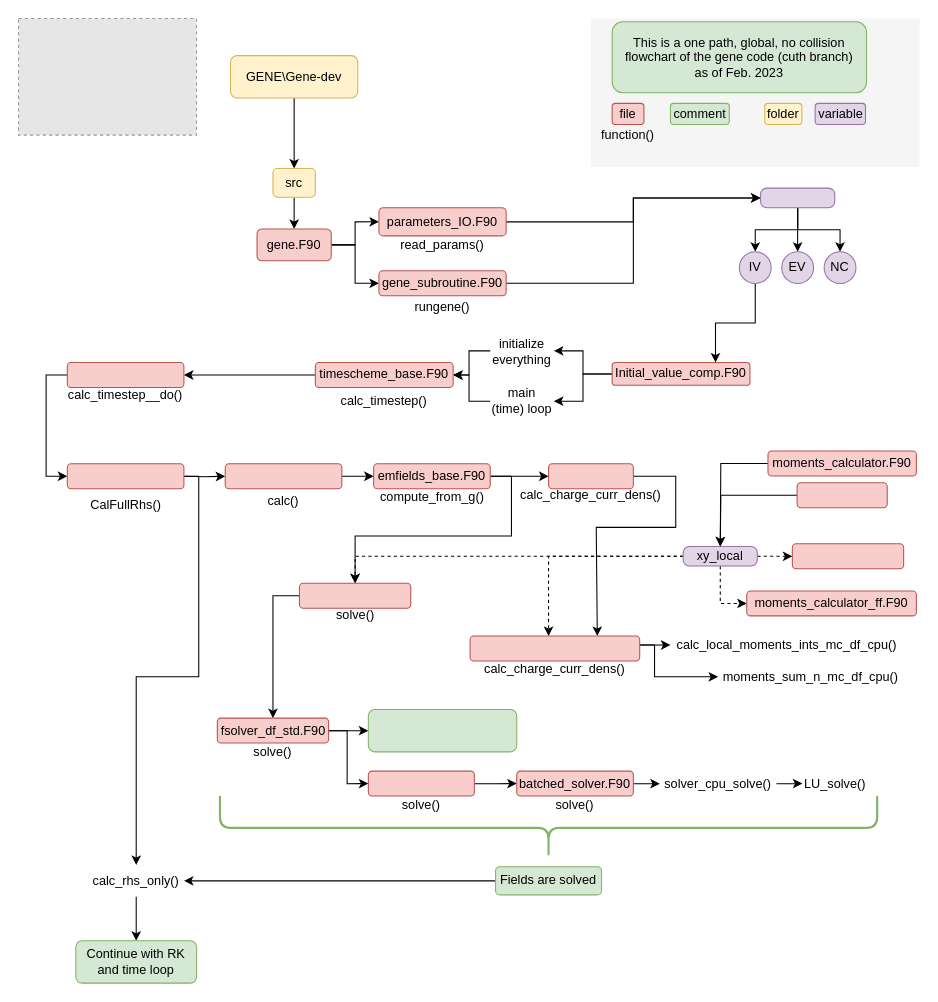
Image size: 938x1002. Some labels were removed from this diagram. Grey dashed boxes stand in for pictures. Each missing label, with the box of its shape:
aux_fields.F90: (224, 463, 342, 489)
calc_rhs.F90: (66, 463, 184, 489)
comp_type: (759, 187, 835, 208)
Conditions over adiabatic e-, zonal flows, etc: (367, 708, 517, 752)
dist_func.F90: (547, 463, 633, 489)
eRK_standard.F90: (66, 361, 184, 387)
fieldsolver.F90: (796, 482, 887, 508)
fieldsolver_df.F90: (298, 582, 411, 608)
fieldsolver_ff.F90: (791, 543, 904, 569)
moments_calculator_df.F90: (469, 635, 640, 661)
parallelsolver.F90: (367, 770, 474, 796)
